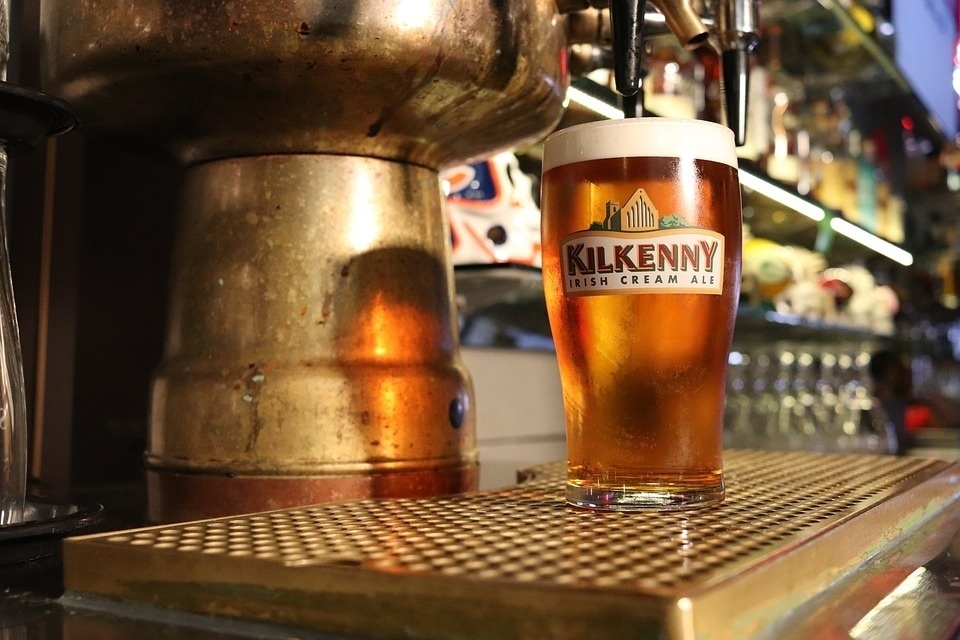whiskey: (537, 116, 742, 495)
